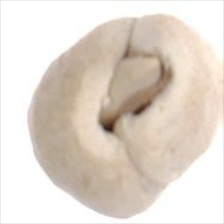L3: (94, 47, 172, 135)
L4: (26, 13, 219, 219)
